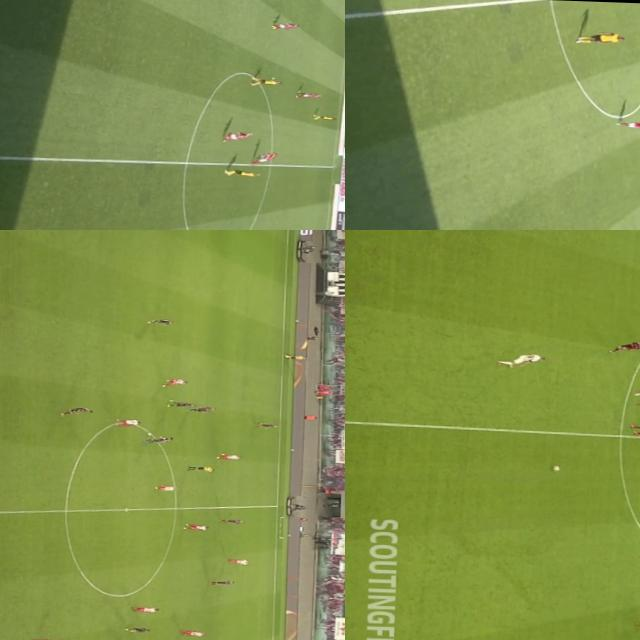ball: (546, 465, 566, 474), (144, 432, 152, 436)
player: (500, 352, 546, 370), (576, 31, 622, 47), (56, 406, 96, 417), (222, 130, 251, 144), (250, 150, 274, 165), (250, 76, 282, 86), (186, 404, 218, 414), (613, 341, 640, 352), (182, 522, 210, 532), (160, 378, 188, 388), (140, 436, 174, 444), (613, 120, 640, 130), (220, 516, 247, 526), (220, 170, 258, 177), (112, 418, 142, 426), (214, 453, 240, 462), (271, 22, 299, 30), (132, 606, 158, 614), (209, 578, 235, 586), (226, 557, 252, 565), (310, 115, 338, 122), (122, 626, 154, 632), (149, 319, 175, 326), (296, 91, 318, 99), (179, 630, 207, 636), (154, 484, 176, 491), (255, 422, 277, 429), (632, 389, 640, 408), (162, 401, 192, 406), (631, 421, 640, 435)
